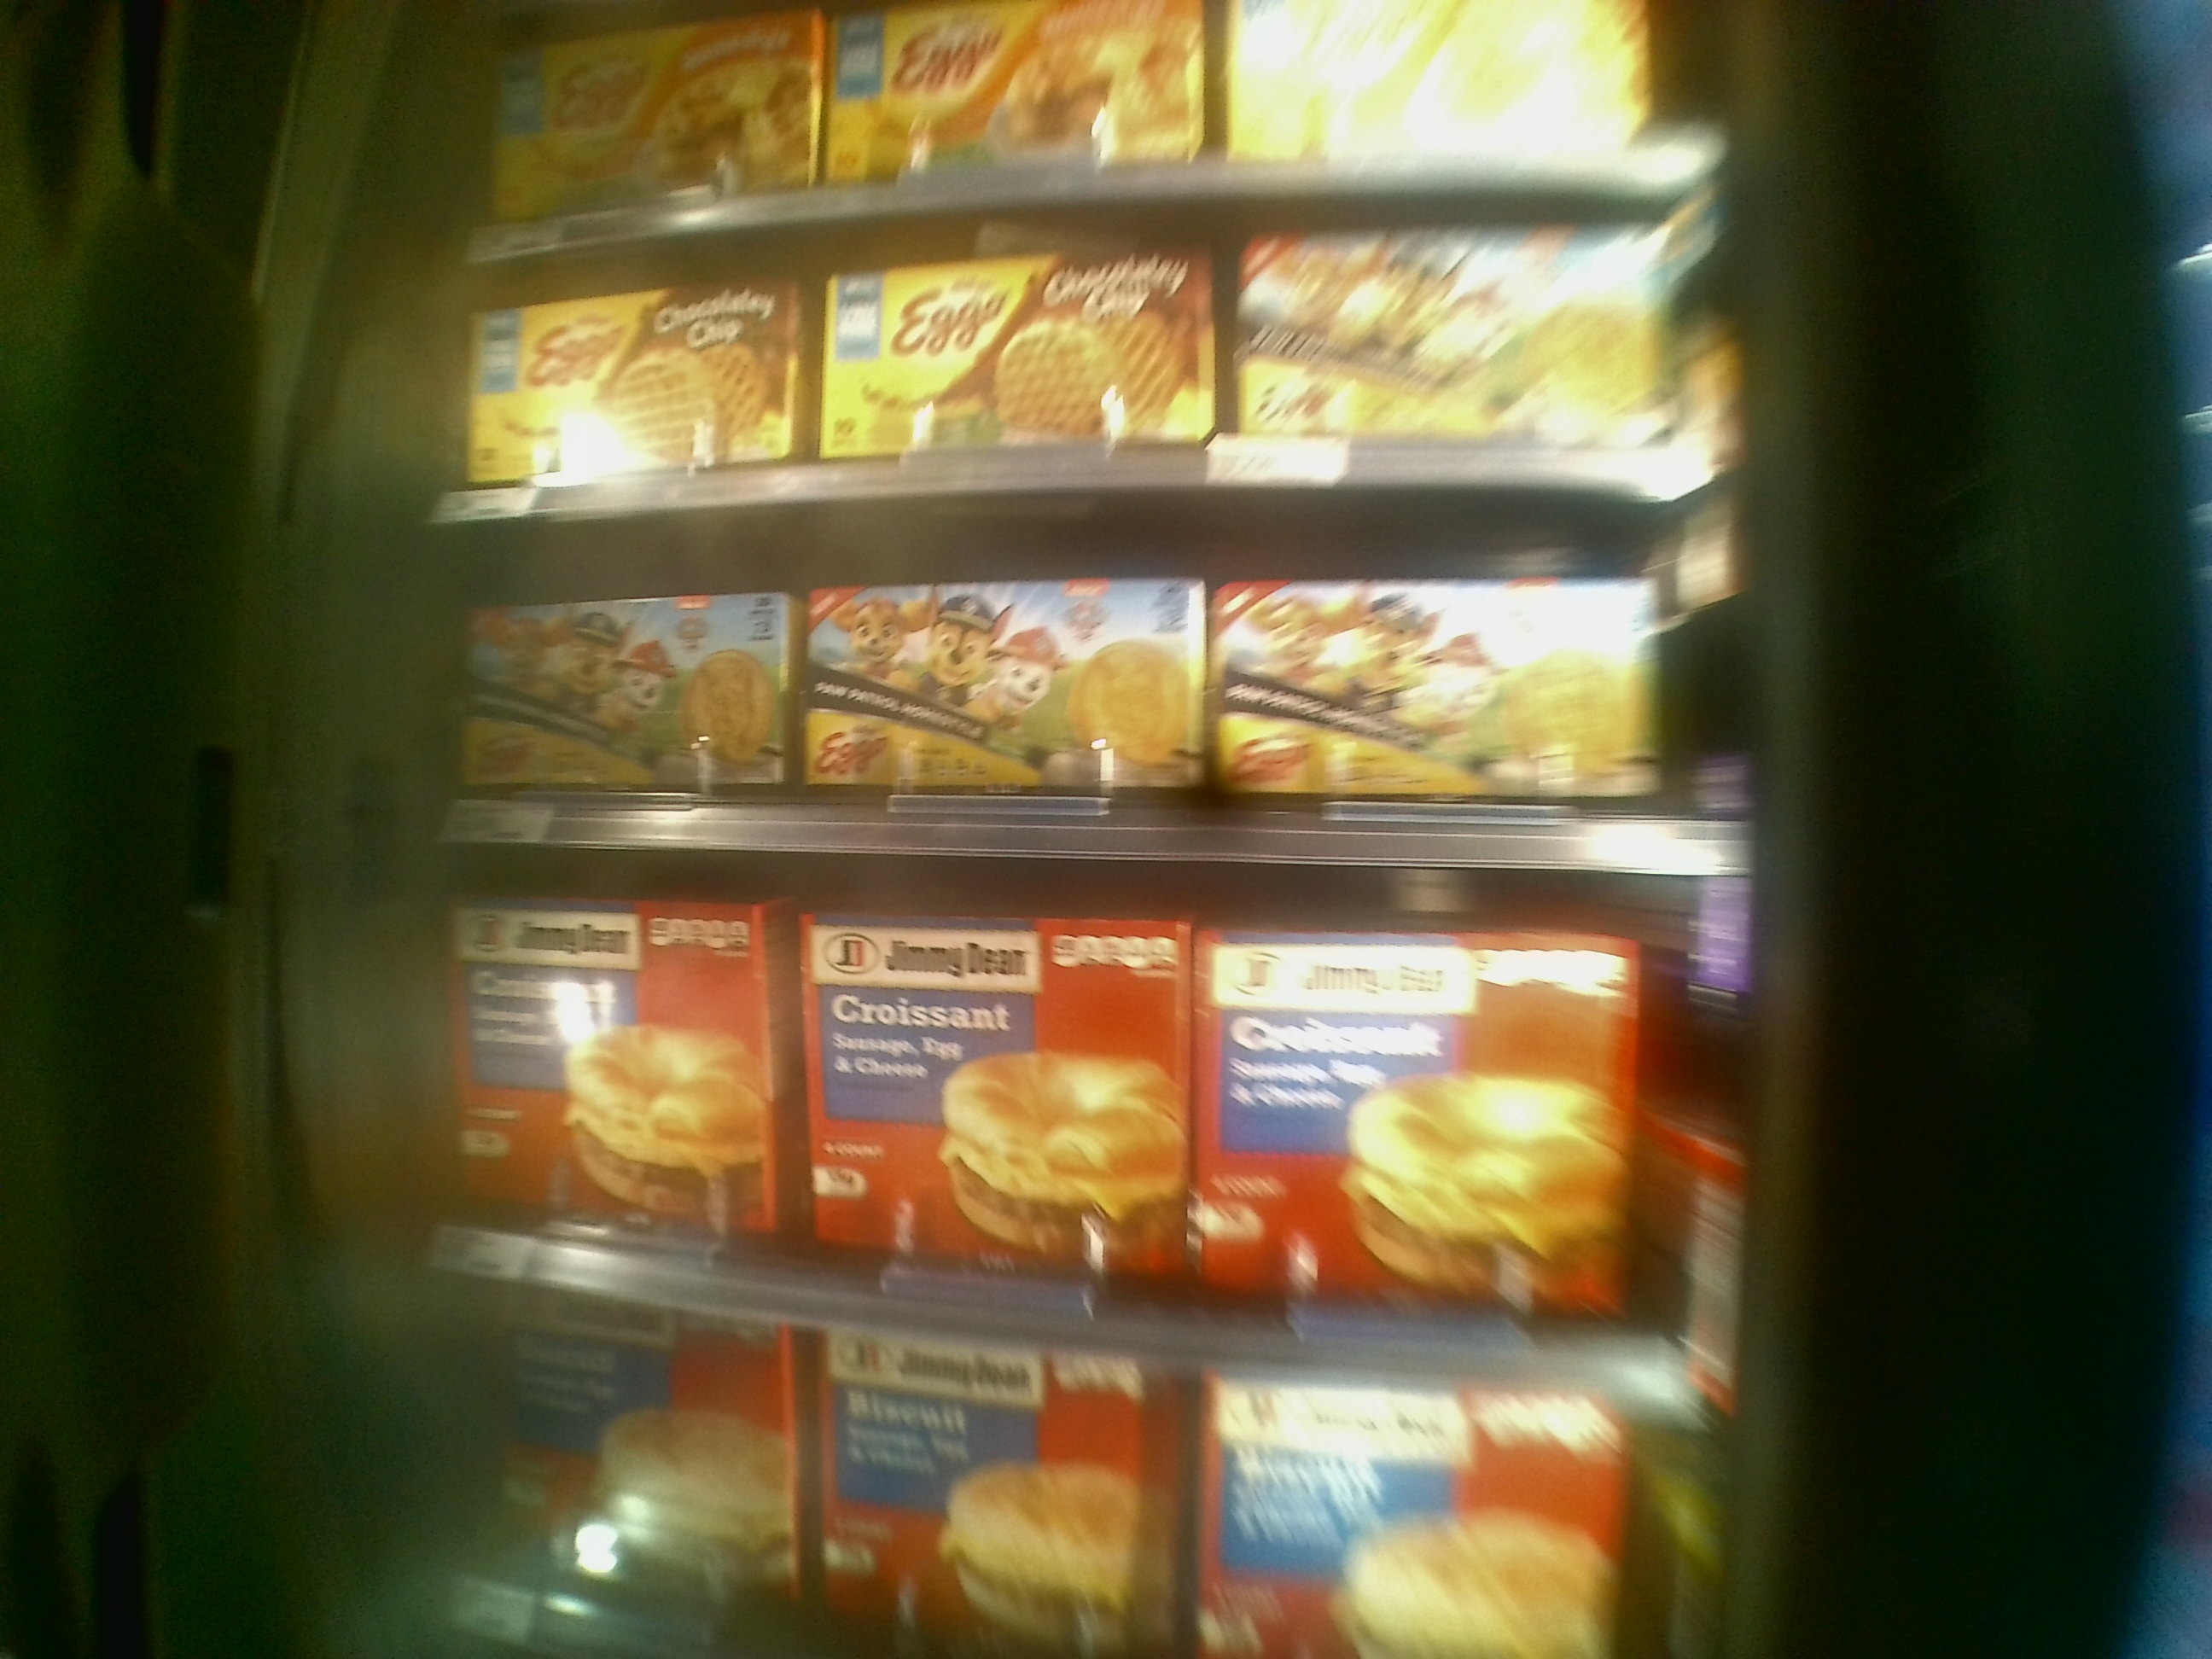shelf: (421, 852, 1737, 1401), (427, 488, 1740, 889), (432, 193, 1696, 483)
